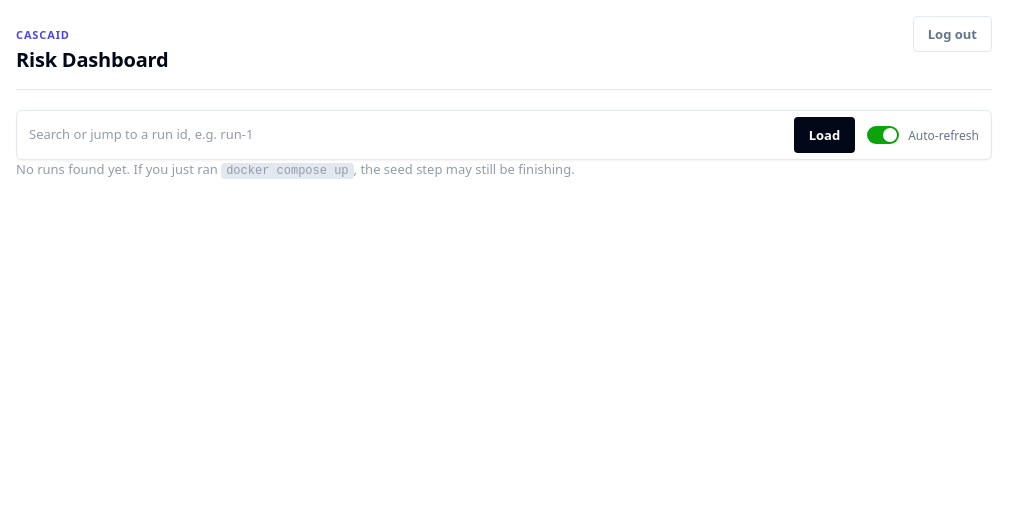
Test: App › logs out, clears the token, and returns to the login screen
Expected: the heading "Risk Dashboard" is shown, [16,46,168,73]
Step 1. Click the button "Log out" → (952, 34), box [913,16,992,52]
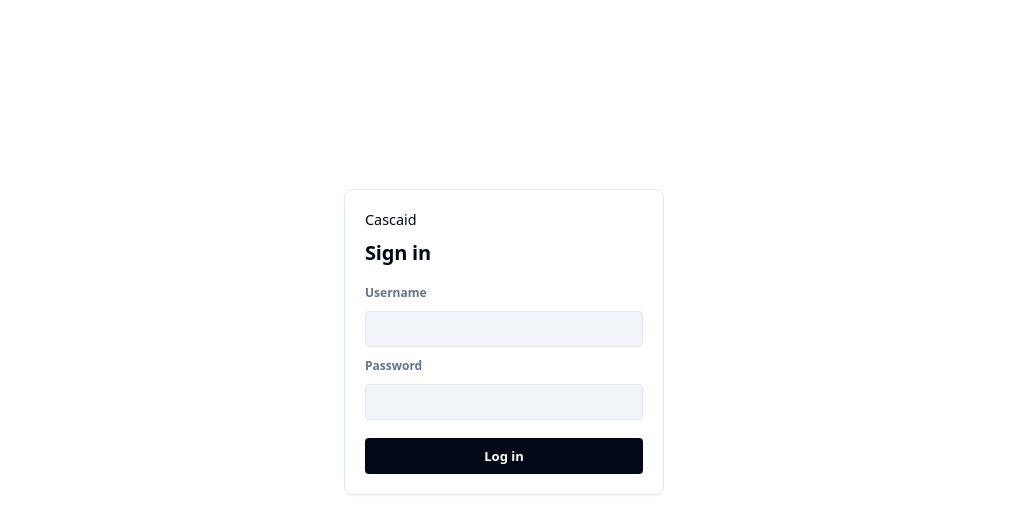
Expected: the heading "Sign in" is shown, [365,239,431,266]
